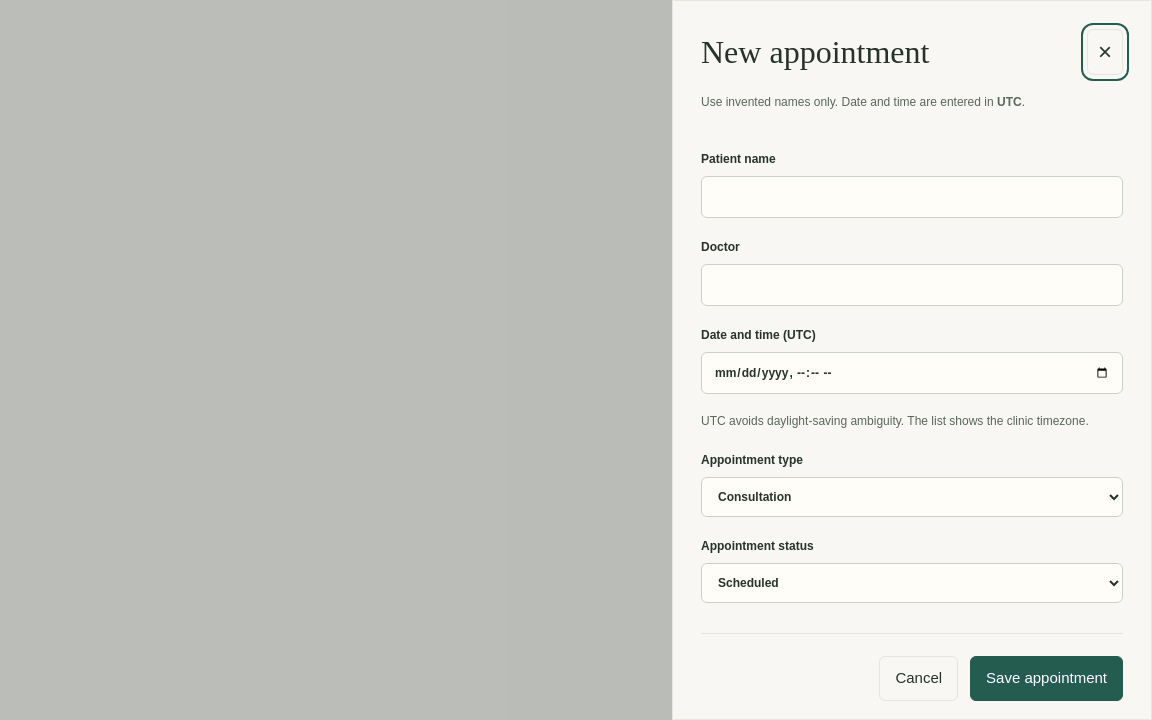
associates appointment_type validation with its field while retaining the form
In the field labelled "Patient name": (912, 197) x1=701 y1=176 x2=1123 y2=218, type "Fictional Rowan"
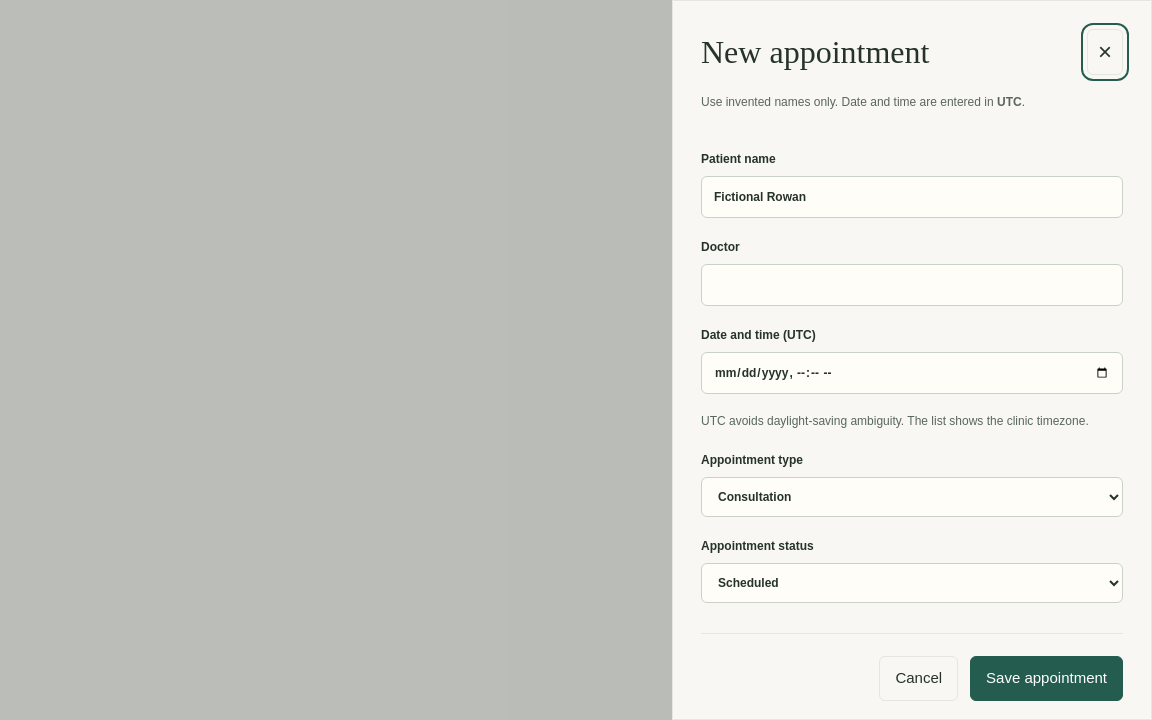
In the field labelled "Doctor": (912, 285) x1=701 y1=264 x2=1123 y2=306, type "Dr. Fictional Avery"
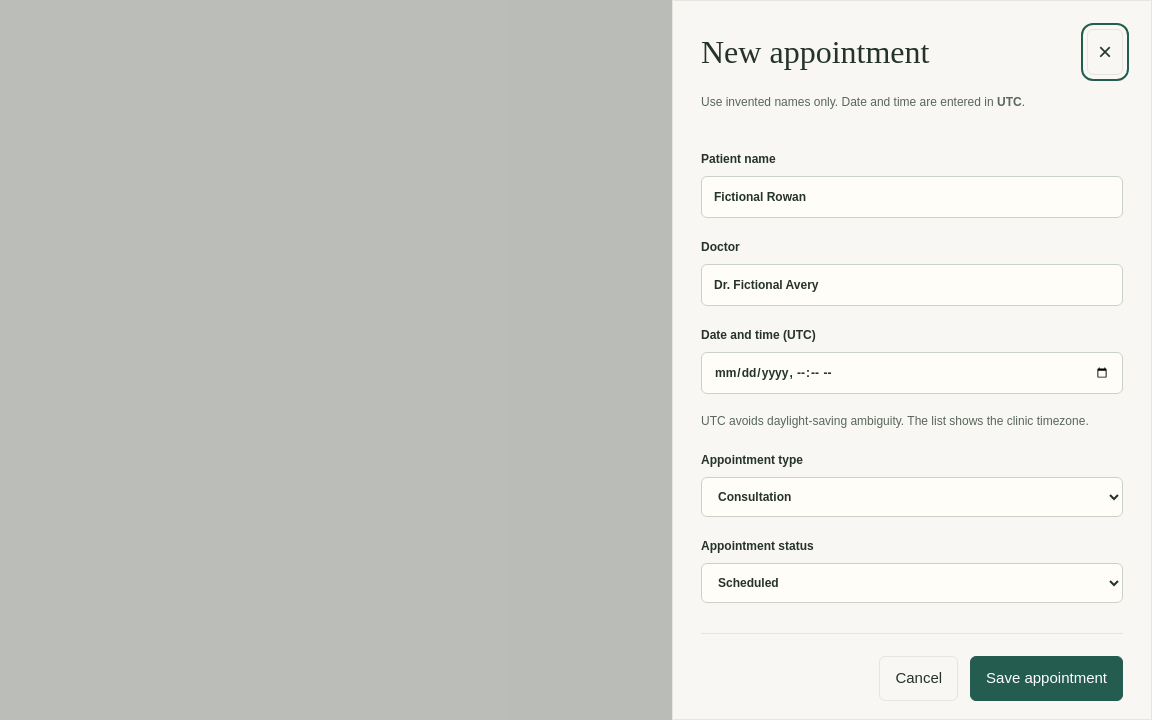
In the field labelled "Date and time (UTC)": (912, 373) x1=701 y1=352 x2=1123 y2=394, type "2026-10-20T09:30"
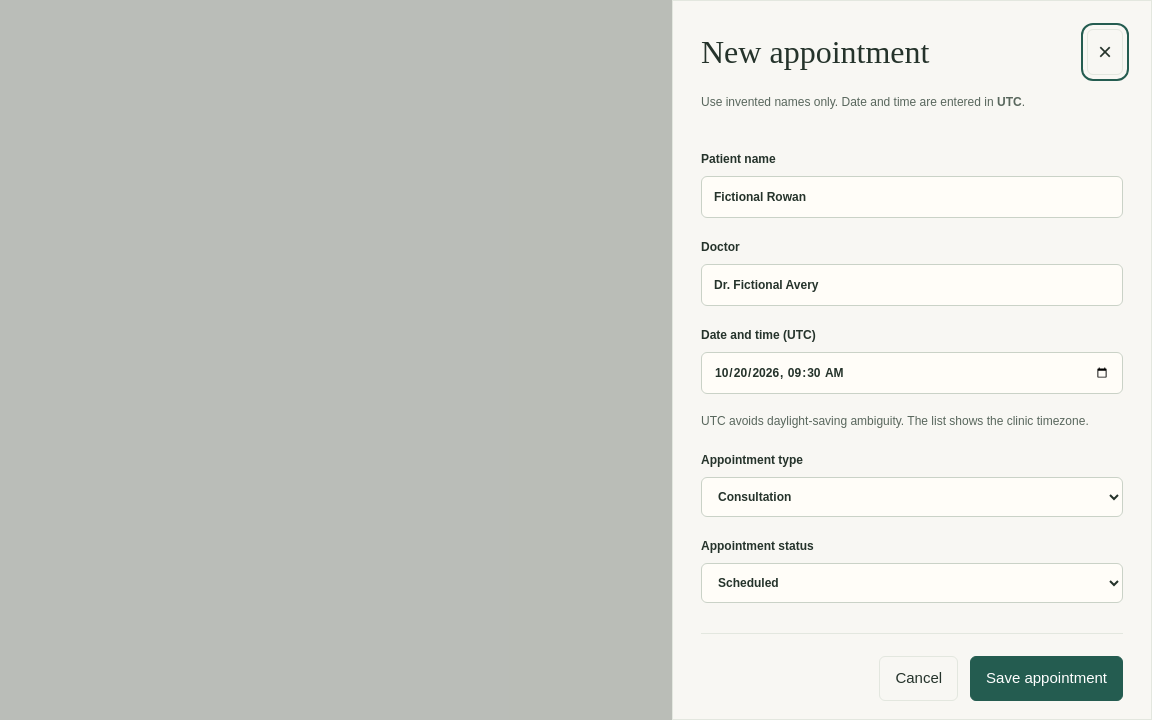
Select "Follow up" in the dropdown labelled "Appointment type": (912, 497) x1=701 y1=477 x2=1123 y2=517
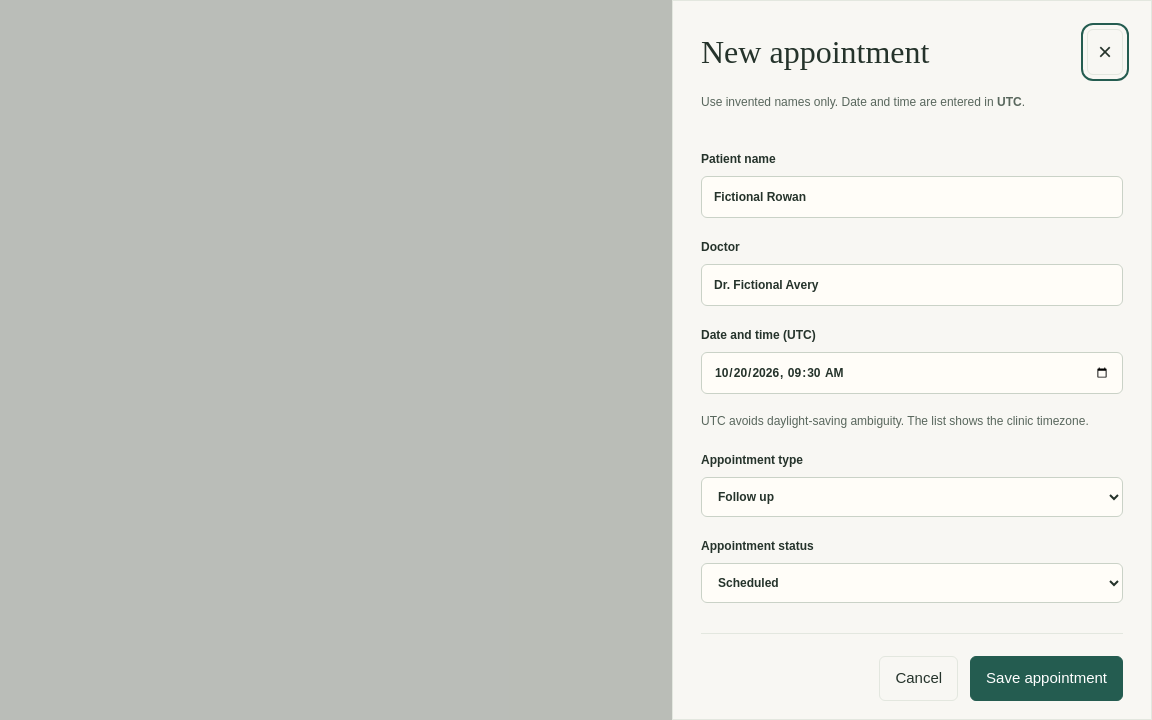
Select "Completed" in the dropdown labelled "Appointment status": (912, 583) x1=701 y1=563 x2=1123 y2=603
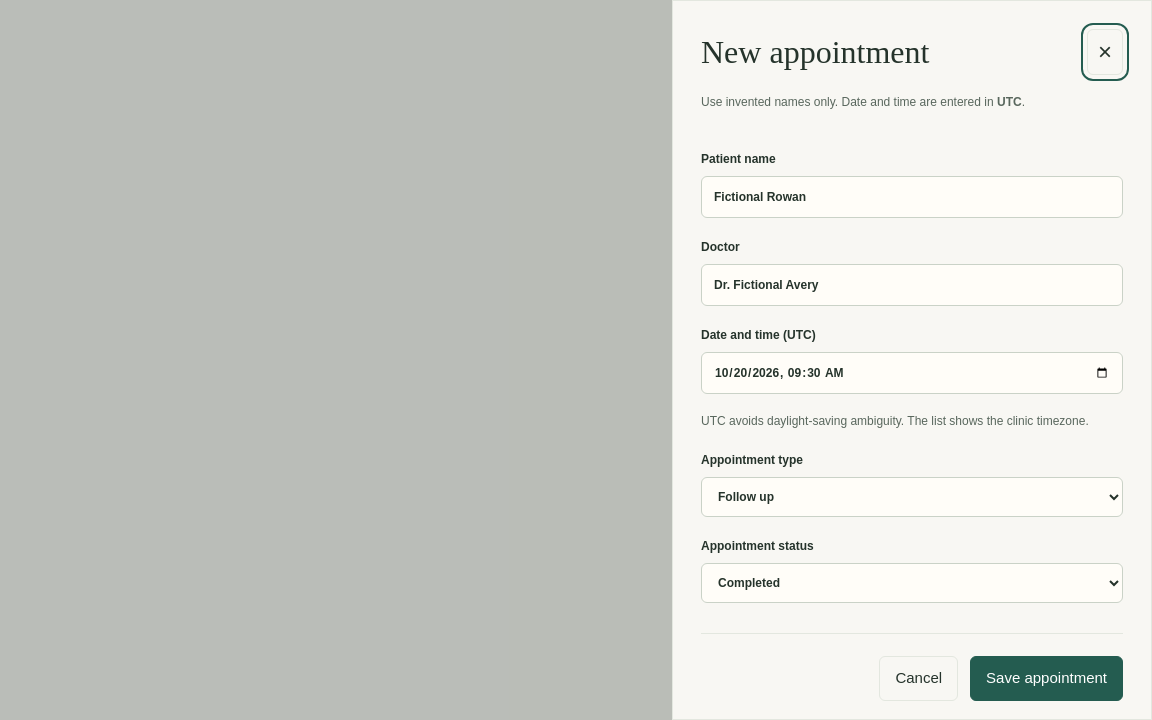
Submit the form named "Save appointment", box x1=701 y1=130 x2=1123 y2=701
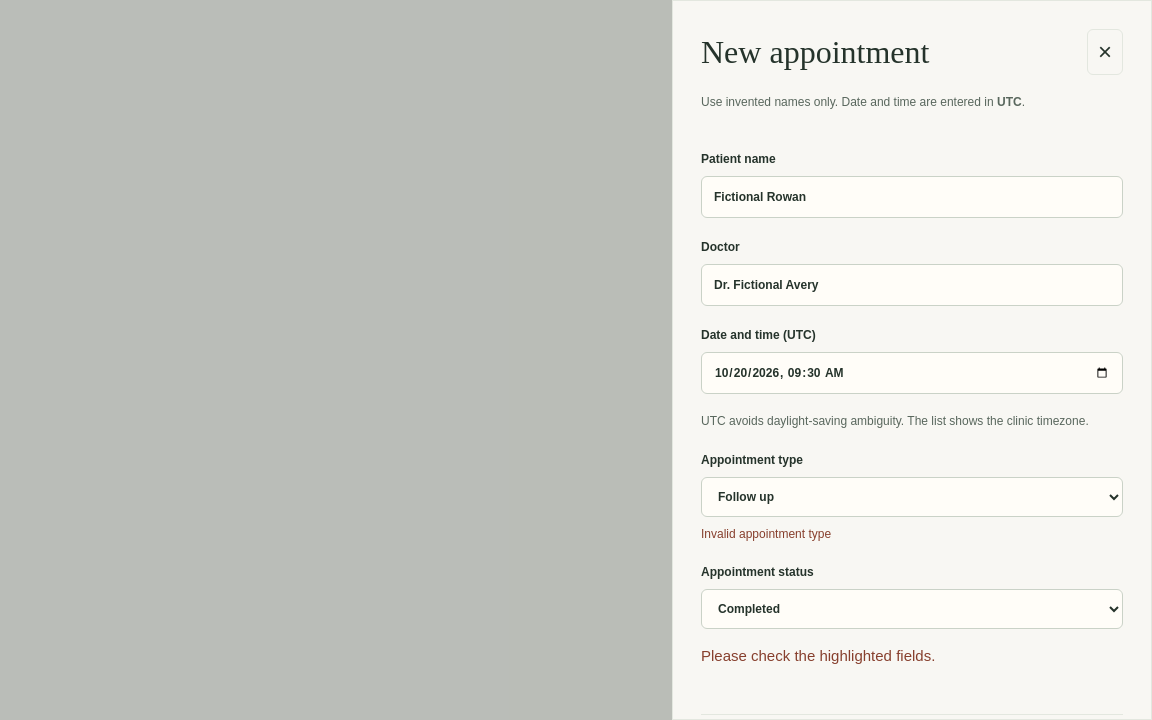
Now the text "Invalid appointment type" is shown, box x1=701 y1=527 x2=831 y2=541
